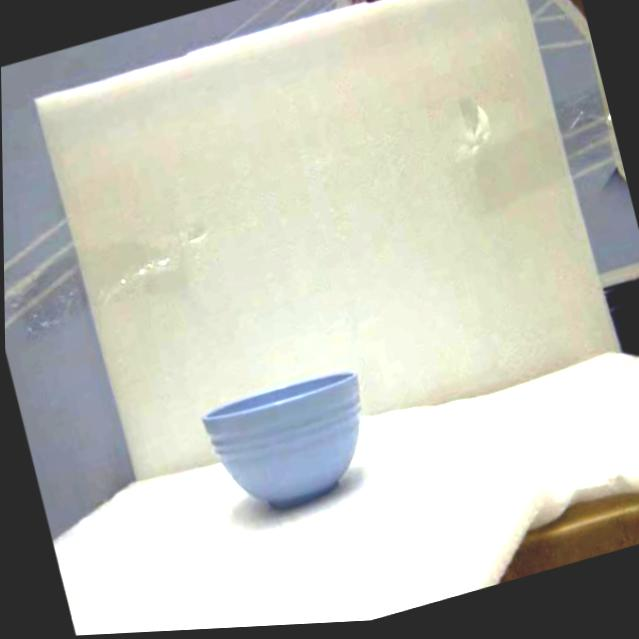Bowl: (202, 373, 360, 509)
